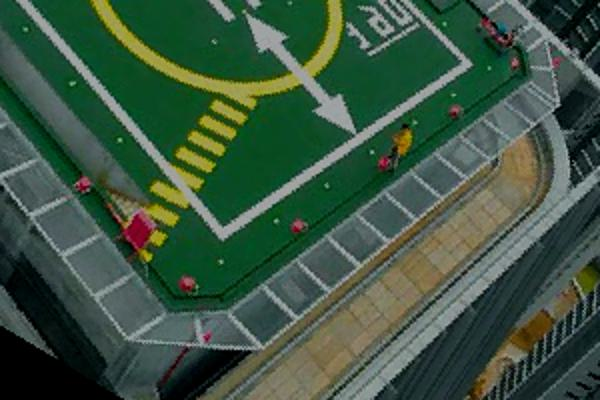Apron: (81, 1, 353, 110)
